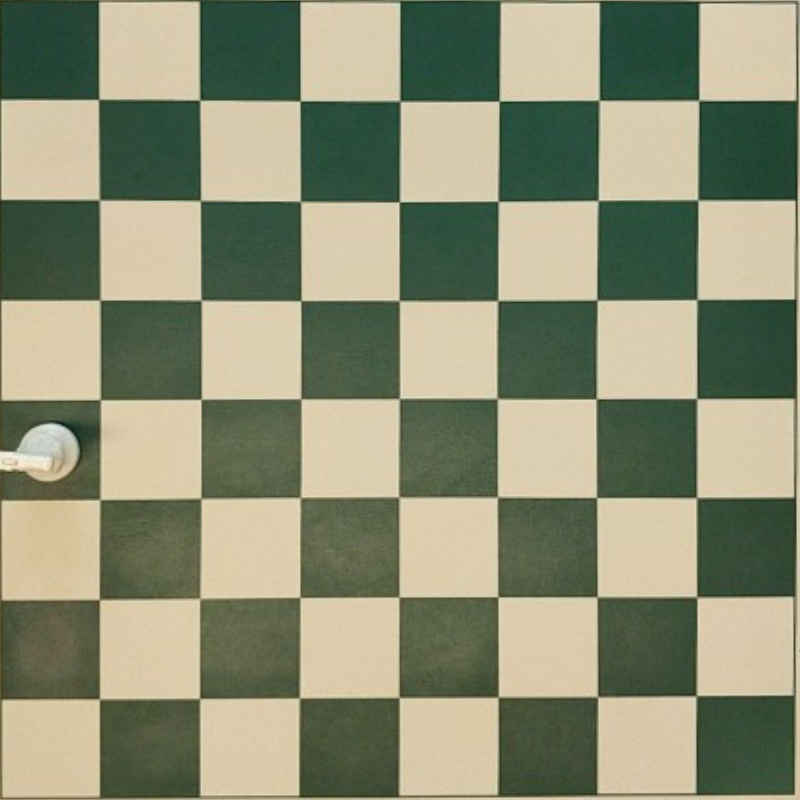white-knight: (0, 421, 80, 483)
